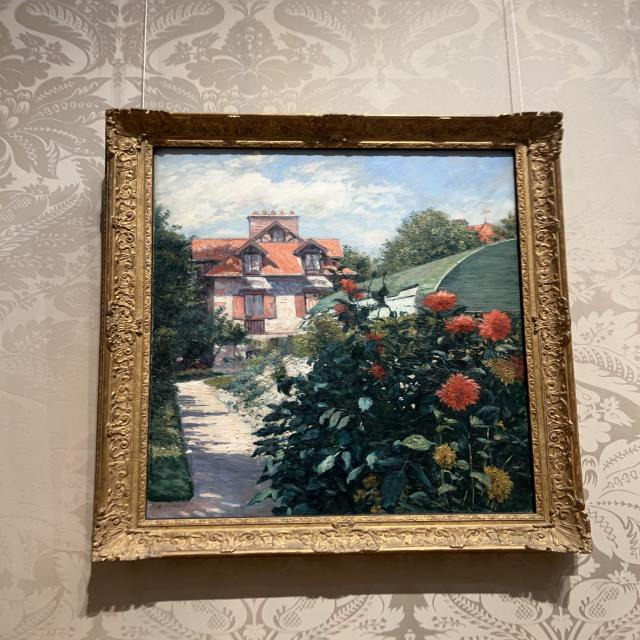summer: (148, 148, 535, 519)
